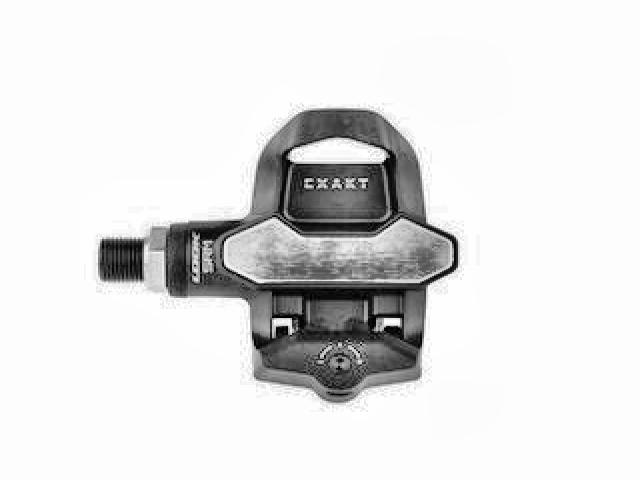pedal: (91, 104, 464, 406)
